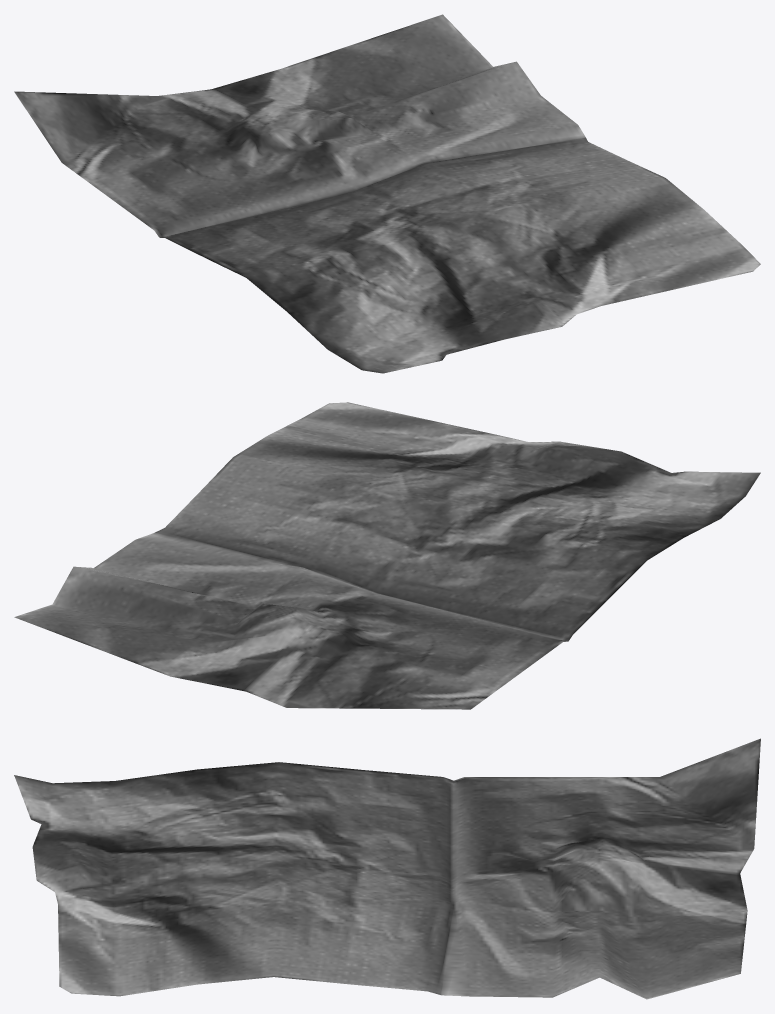
The model's file is napkin_1.fbx.
The picture shows the model from 3 angles, top to bottom: view 1: azimuth 30°, elevation 25°; view 2: azimuth 150°, elevation 25°; view 3: azimuth 270°, elevation 25°; orthographic projection. The views are drawn at different scales.
Parts seen in each view (by area): view 1: napkin_001; view 2: napkin_001; view 3: napkin_001.
Part boxes in pixels (bbox=[...]): napkin_001: bbox=[14, 14, 760, 373]; napkin_001: bbox=[14, 402, 760, 709]; napkin_001: bbox=[14, 738, 760, 999].
Size of the model in its own units: 20.78 by 1.85 by 29.72.
